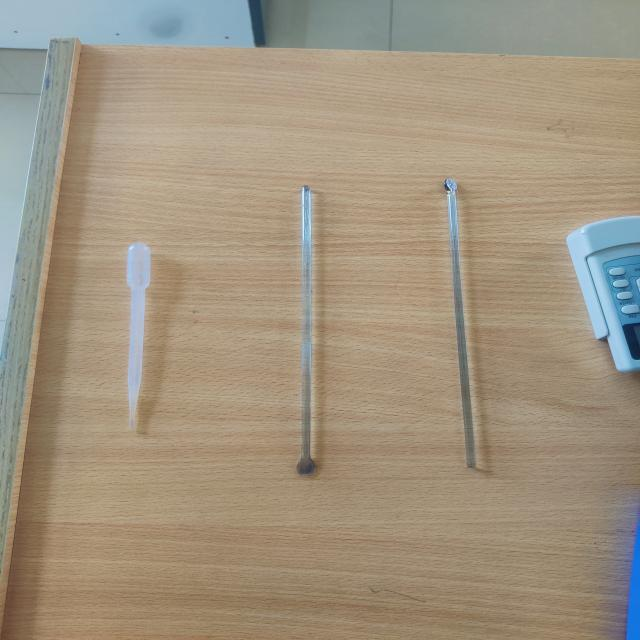Glass_Rod: (261, 157, 372, 513), (423, 151, 536, 495)
Pipette: (86, 200, 195, 448)
